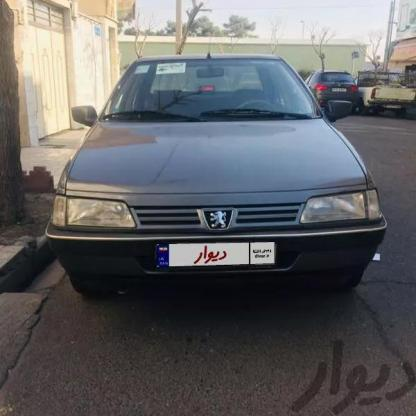Car: (44, 53, 382, 298), (364, 73, 414, 129), (305, 72, 372, 111)
